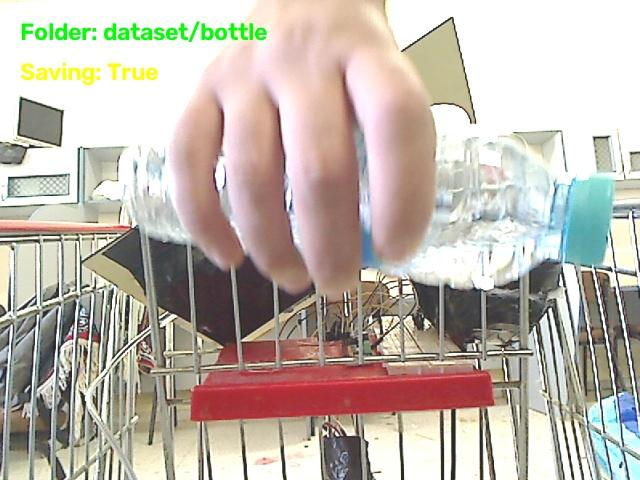Bottle: (356, 125, 614, 289), (122, 147, 189, 241)
